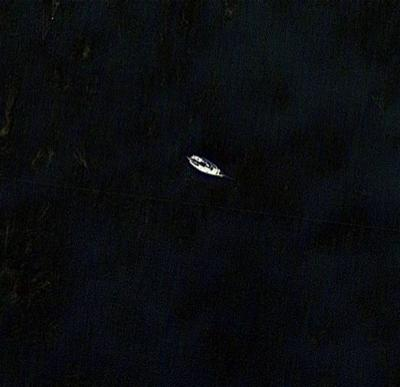Ships: (184, 150, 232, 188)
